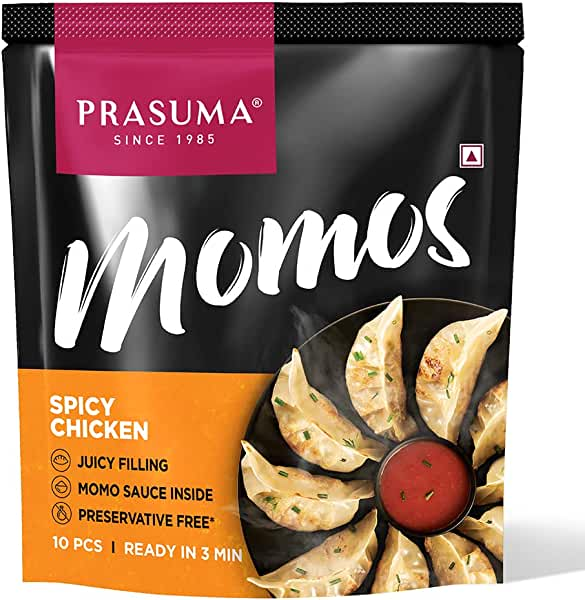non_veg: (459, 145, 491, 187)
